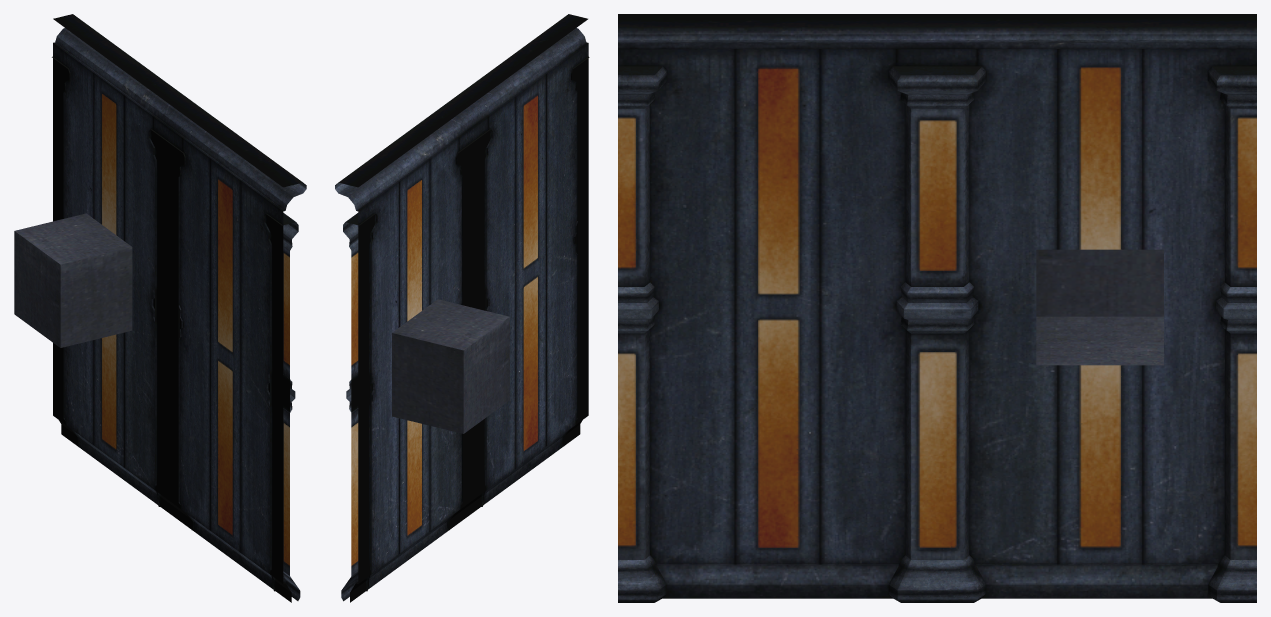
Rendered from default02_secret_blue.dae.
The picture shows the model from 3 angles, left to right: view 1: azimuth 30°, elevation 25°; view 2: azimuth 150°, elevation 25°; view 3: azimuth 270°, elevation 25°; orthographic projection. The views are drawn at different scales.
Parts seen in each view (by area): view 1: Cube_002; view 2: Cube_002; view 3: Cube_002.
Boxes of the visible parts, box(x1,y1,x2,y2) form: Cube_002: box(14, 14, 306, 602); Cube_002: box(335, 14, 589, 602); Cube_002: box(618, 14, 1256, 602).
Bounding box in the file's own units: 0.955 × 4 × 4.
1 material, 1 textured.
